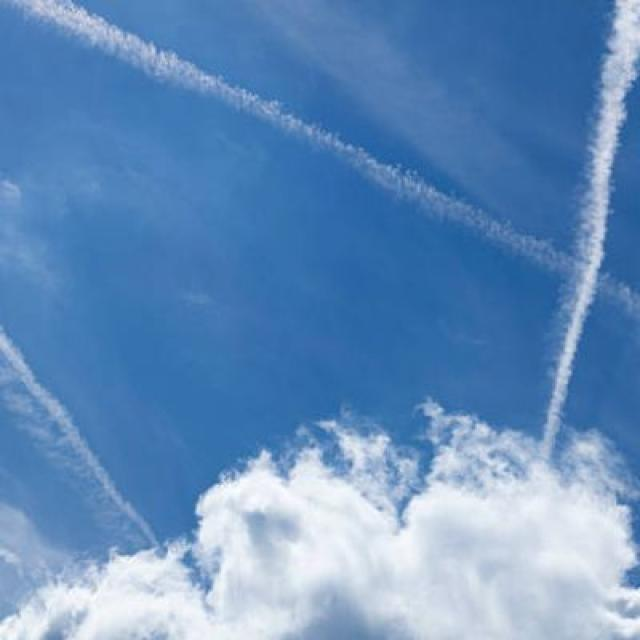Ct: (1, 6, 640, 574)
